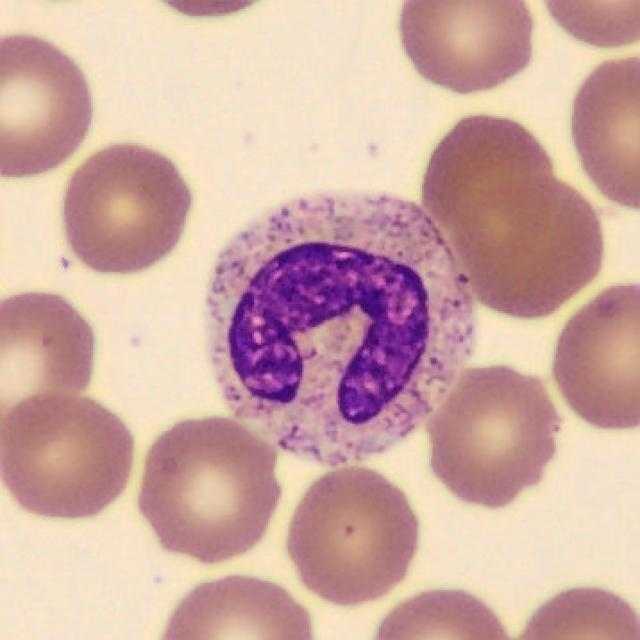Neutrofilo segmentado: (206, 191, 476, 472)
